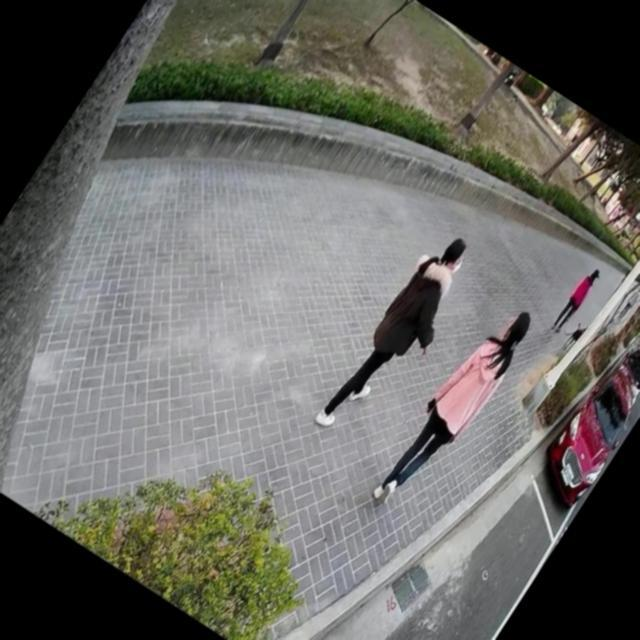person: (305, 215, 495, 459), (362, 286, 546, 528), (544, 258, 606, 340)
